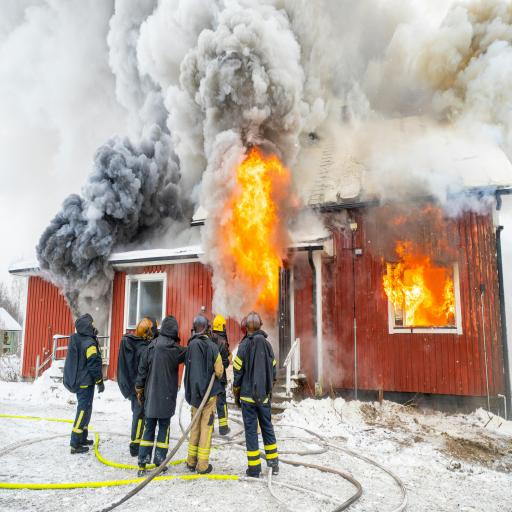buildingfire: (2, 53, 512, 418), (374, 240, 468, 343)
fire: (186, 111, 304, 289)
smoke: (98, 0, 512, 193), (13, 181, 132, 302)
